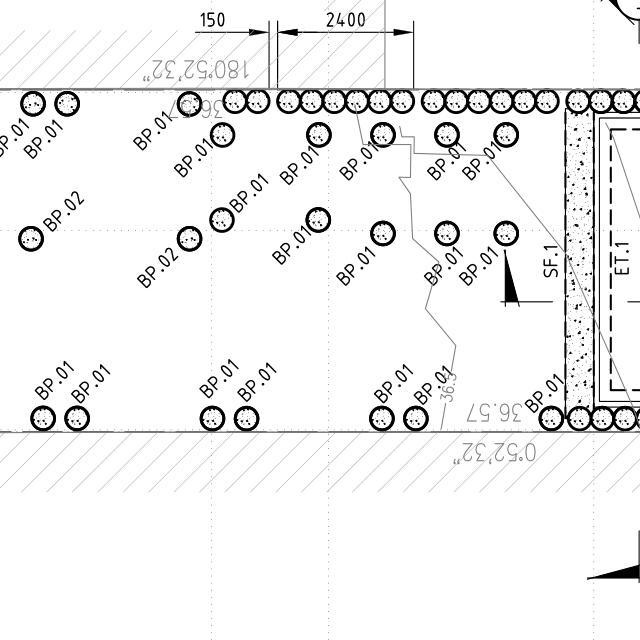BP-01: (6, 345, 67, 396), (232, 353, 284, 407), (458, 132, 509, 186), (72, 357, 122, 409), (333, 133, 385, 181), (514, 369, 573, 410), (354, 356, 410, 399), (411, 357, 458, 407), (272, 142, 325, 186), (456, 242, 504, 290), (262, 221, 313, 266), (330, 245, 375, 293), (172, 129, 215, 179), (194, 347, 235, 396), (420, 238, 461, 284), (127, 108, 173, 148), (33, 112, 67, 162), (229, 167, 268, 208), (422, 137, 460, 177)
BP-02: (127, 242, 179, 290), (42, 186, 90, 234)
ET-1: (601, 231, 638, 281)
SF-1: (533, 234, 565, 280)
